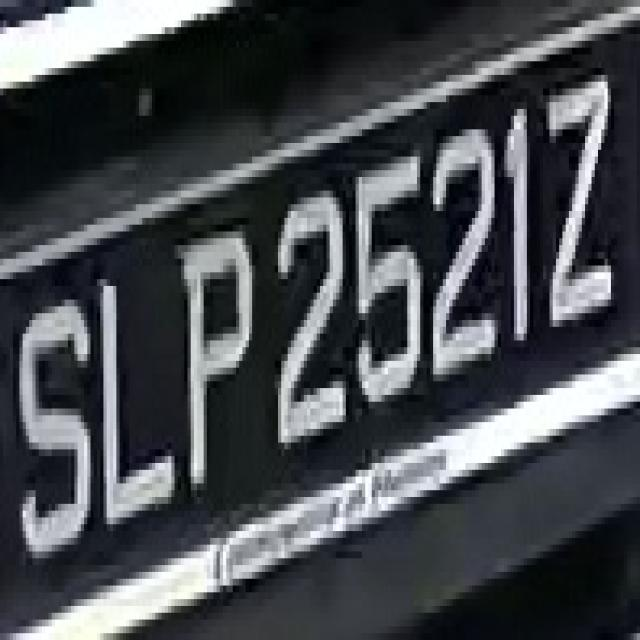1: (495, 81, 543, 368)
2: (258, 164, 358, 476), (427, 115, 508, 408)
5: (365, 109, 427, 442)
L: (90, 252, 178, 551)
P: (188, 218, 258, 524)
S: (10, 286, 94, 565)
Z: (536, 61, 620, 354)
